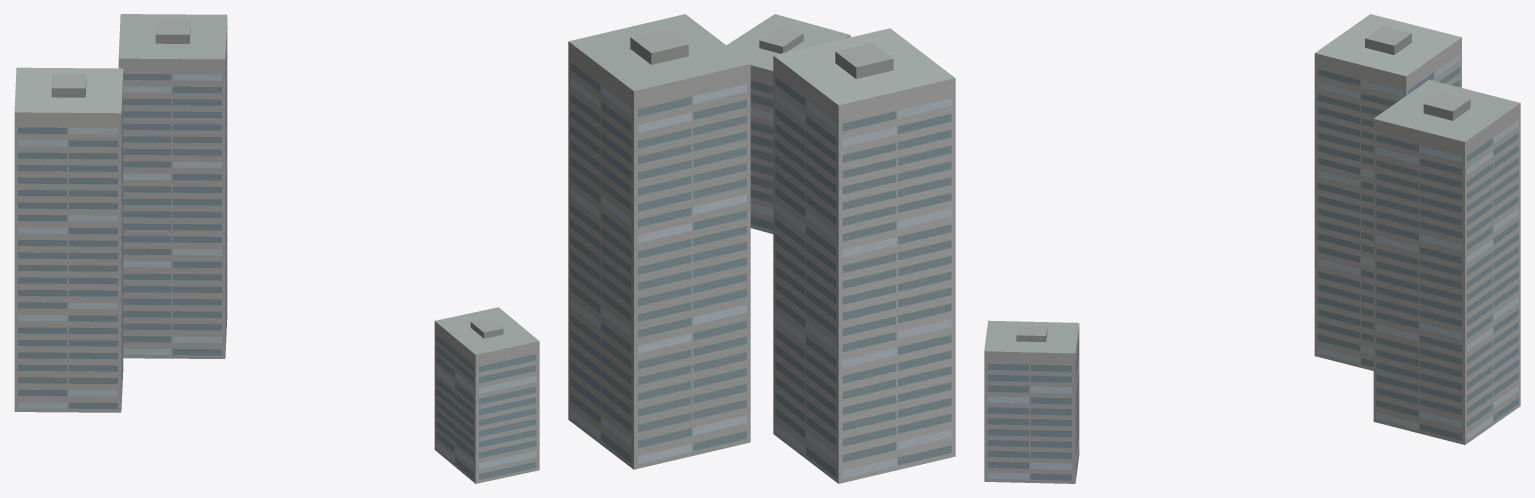
The model's file is apt-a10027495.glb.
The picture shows the model from 3 angles, left to right: view 1: azimuth 30°, elevation 25°; view 2: azimuth 150°, elevation 25°; view 3: azimuth 270°, elevation 25°; orthographic projection. The views are drawn at different scales.
Parts seen in each view (by area): view 1: apt-a10027495; view 2: apt-a10027495; view 3: apt-a10027495.
Boxes of the visible parts, x1=… form: apt-a10027495: x1=14, y1=14, x2=539, y2=483; apt-a10027495: x1=568, y1=14, x2=955, y2=483; apt-a10027495: x1=984, y1=14, x2=1520, y2=483.
Size of the model in its own units: 91.68 by 80 by 125.
